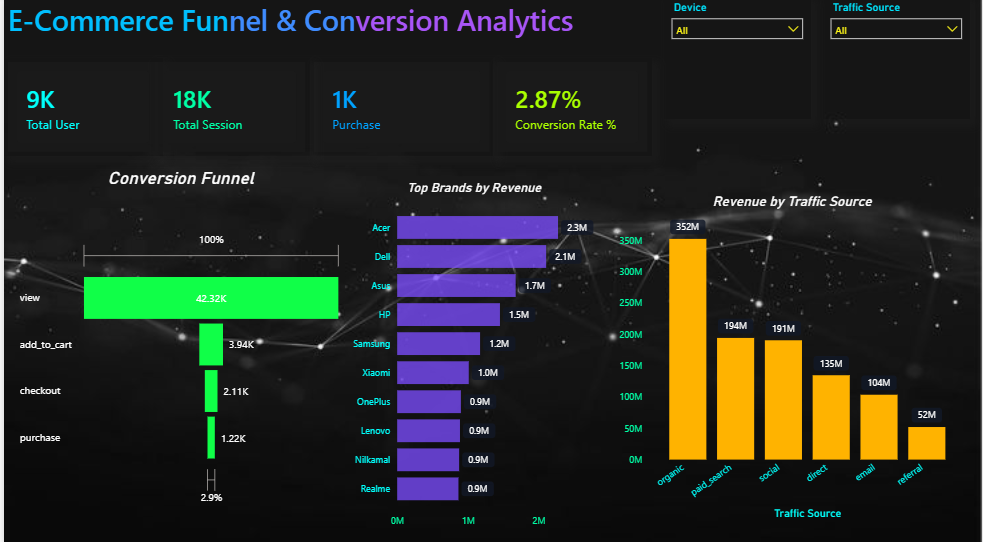

The page's visual inventory and layout, read from the dashboard file:
{"tool":"powerbi","page":{"name":"Performance","canvas":[1280,720],"ordinal":0},"visuals":[{"type":"cardVisual","fields":{"Data":["ecommerce_funnel_50k.Total User"]},"box":[0,80,208,128],"z":0},{"type":"textbox","box":[0,0,800,80],"z":1000},{"type":"cardVisual","fields":{"Data":["ecommerce_funnel_50k.Purchase"]},"box":[400,80,240,128],"z":2000},{"type":"cardVisual","fields":{"Data":["ecommerce_funnel_50k.Conversion Rate %"]},"box":[640,80,208,128],"z":3000},{"type":"cardVisual","fields":{"Data":["ecommerce_funnel_50k.Total Session"]},"box":[192,80,208,128],"z":4000},{"type":"funnel","title":"Conversion Funnel","fields":{"Y":["CountNonNull(ecommerce_funnel_50k.event_id)"],"Category":["ecommerce_funnel_50k.event_type"]},"box":[16,224,432,496],"z":5000},{"type":"clusteredBarChart","title":"Top Brands by Revenue","fields":{"Category":["ecommerce_funnel_50k.brand"],"Y":["Sum(ecommerce_funnel_50k.price)"]},"box":[448,240,336,464],"z":6000},{"type":"clusteredColumnChart","title":"Revenue by Traffic Source","fields":{"Category":["ecommerce_funnel_50k.traffic_source"],"Y":["Sum(ecommerce_funnel_50k.price)"]},"box":[800,256,464,432],"z":7000},{"type":"slicer","fields":{"Values":["ecommerce_funnel_50k.device"]},"box":[864,0,192,160],"z":8000},{"type":"slicer","fields":{"Values":["ecommerce_funnel_50k.traffic_source"]},"box":[1072,0,192,160],"z":9000}]}

Visuals, with their boxes in screenshot pixels (x1, y1, x2, y2), scaled from the page's 1280x720 canvas onto the 983x542 screenshot:
cardVisual - ecommerce_funnel_50k.Total User: (left=0, top=60, right=160, bottom=157)
textbox: (left=0, top=0, right=614, bottom=60)
cardVisual - ecommerce_funnel_50k.Purchase: (left=307, top=60, right=492, bottom=157)
cardVisual - ecommerce_funnel_50k.Conversion Rate %: (left=492, top=60, right=651, bottom=157)
cardVisual - ecommerce_funnel_50k.Total Session: (left=147, top=60, right=307, bottom=157)
"Conversion Funnel" funnel: (left=12, top=169, right=344, bottom=541)
"Top Brands by Revenue" clusteredBarChart: (left=344, top=181, right=602, bottom=530)
"Revenue by Traffic Source" clusteredColumnChart: (left=614, top=193, right=971, bottom=518)
slicer - ecommerce_funnel_50k.device: (left=664, top=0, right=811, bottom=120)
slicer - ecommerce_funnel_50k.traffic_source: (left=823, top=0, right=971, bottom=120)
